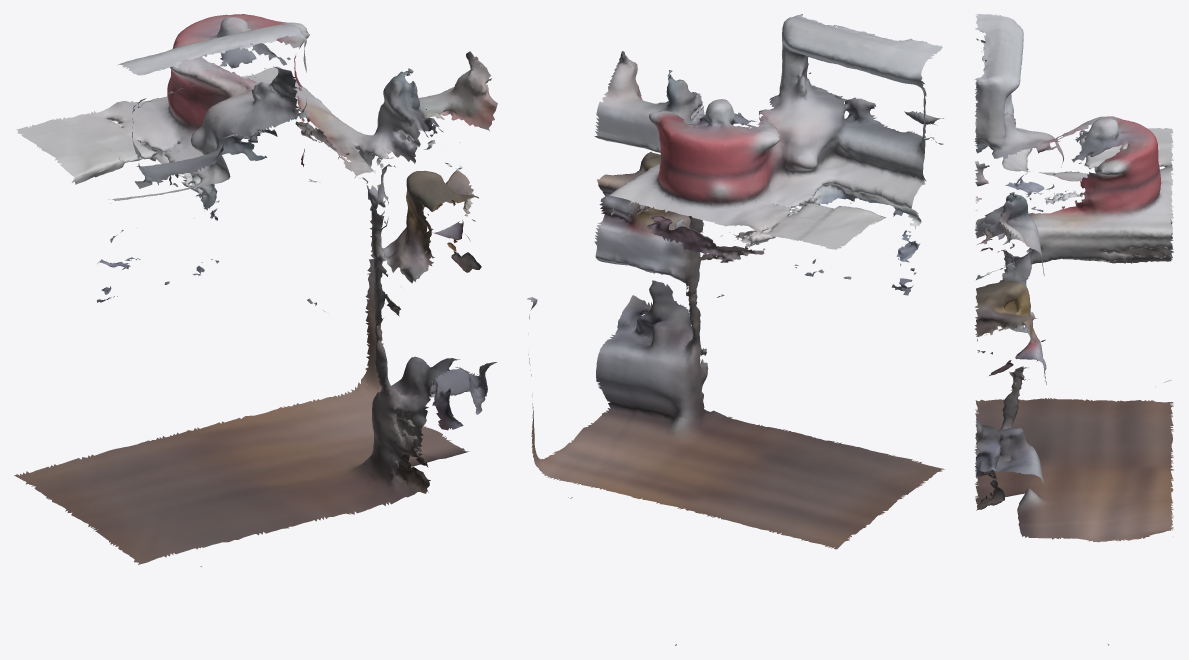
The model's file is apartment-full-106-c7c8b11f68c5.glb.
3 views of the same model, side by side, from view 1: azimuth 30°, elevation 25°; view 2: azimuth 150°, elevation 25°; view 3: azimuth 270°, elevation 25° (orthographic). The views are drawn at different scales.
Size of the model in its own units: 0.856 by 1.55 by 0.517.
